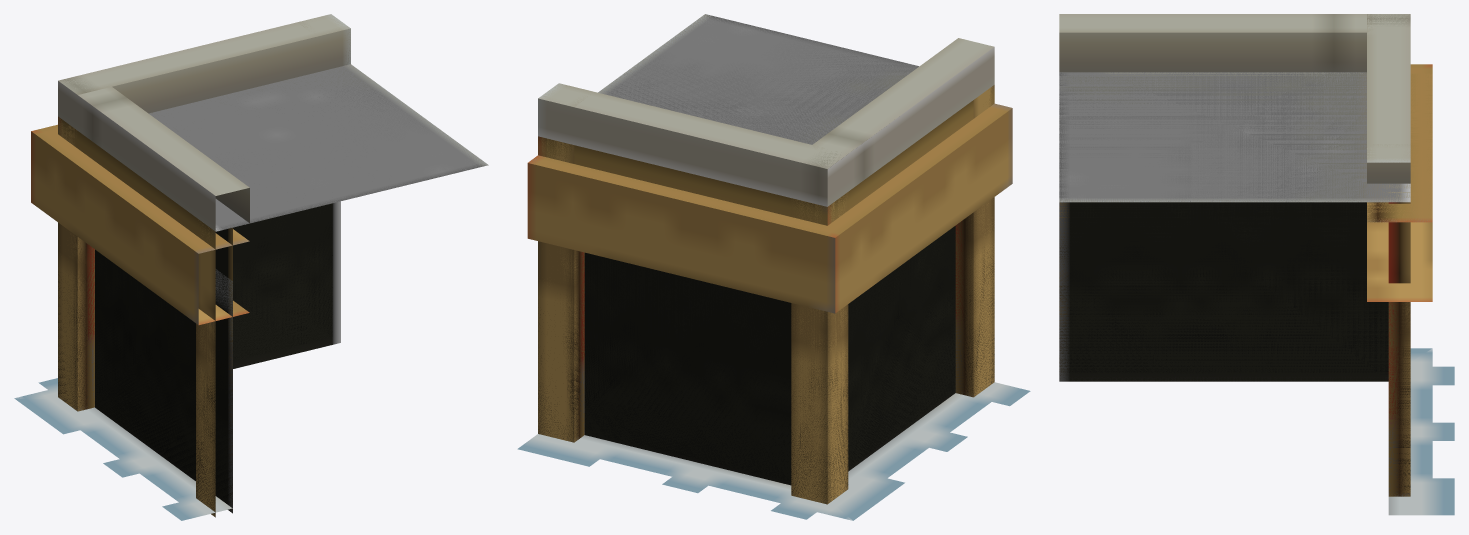
Rendered from Road_Set.fbx.
3 renders of one model, left to right at view 1: azimuth 30°, elevation 25°; view 2: azimuth 150°, elevation 25°; view 3: azimuth 270°, elevation 25°, orthographic. The views are drawn at different scales.
Parts seen in each view (by area): view 1: Ground_Corner_L, Wall_Bottom_Corner, Ground_, Ground_Edge, Wall_Bottom; view 2: Ground_Corner_L, Ground_Edge, Wall_Bottom_Corner, Ground_, Wall_Bottom, Ground_Corner_L_2, Ground_Edge_2; view 3: Ground_Corner_L, Ground_Edge, Ground_, Wall_Bottom_Corner, Ground_Corner_L_2, Wall_Bottom, Ground_Edge_2, Ground_Corner_O.
Part boxes in pixels (x1,y1,x2,y2): Ground_Corner_L: [31, 29, 350, 517]; Wall_Bottom_Corner: [14, 117, 340, 520]; Ground_: [149, 64, 488, 231]; Ground_Edge: [58, 14, 487, 368]; Wall_Bottom: [38, 212, 306, 396]; Ground_Corner_L: [527, 38, 1012, 503]; Ground_Edge: [527, 14, 916, 504]; Wall_Bottom_Corner: [584, 85, 1030, 520]; Ground_: [598, 14, 917, 144]; Wall_Bottom: [517, 137, 827, 519]; Ground_Corner_L_2: [615, 15, 918, 144]; Ground_Edge_2: [621, 15, 906, 101]; Ground_Corner_L: [1059, 14, 1432, 381]; Ground_Edge: [1059, 14, 1432, 496]; Ground_: [1059, 72, 1410, 202]; Wall_Bottom_Corner: [1059, 202, 1453, 385]; Ground_Corner_L_2: [1059, 72, 1366, 201]; Wall_Bottom: [1388, 202, 1454, 515]; Ground_Edge_2: [1059, 72, 1366, 202]; Ground_Corner_O: [1367, 144, 1410, 183].
Bounding box in the file's own units: 18 × 18 × 18.
1 material, 1 textured.
